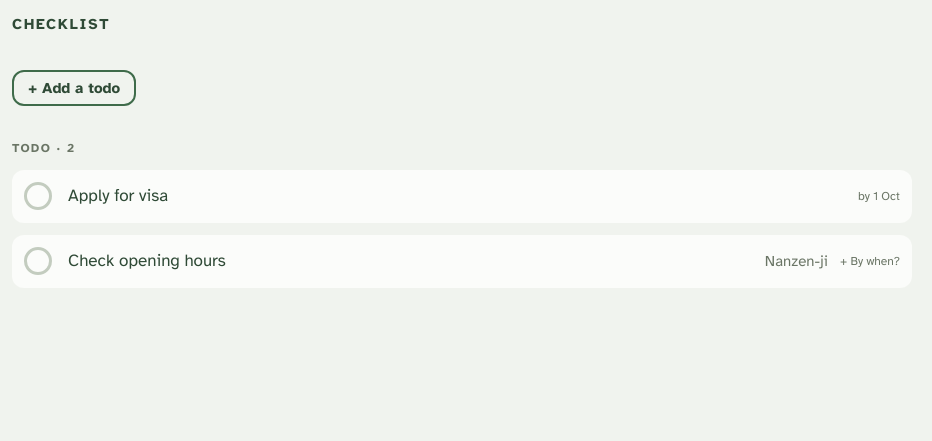
Test case: TripChecklist › saves a new item that has a by-when, without going back to the title first
The image size is (932, 441).
Expected: the text "Apply for visa" is shown, [68,185,168,206]
Click the button "+ Add a todo" at (74, 88), box [12,70,136,106]
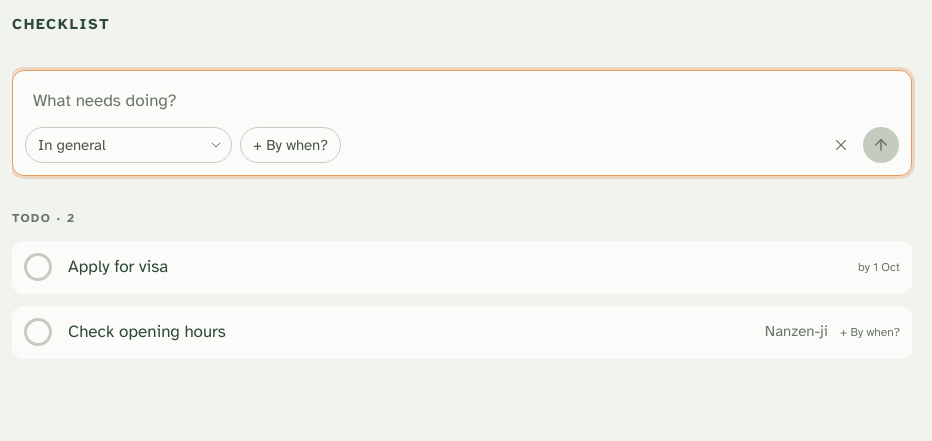
Type "Buy the JR regional pass" into the field labelled "What needs doing?" at (462, 101), box [25,82,899,119]
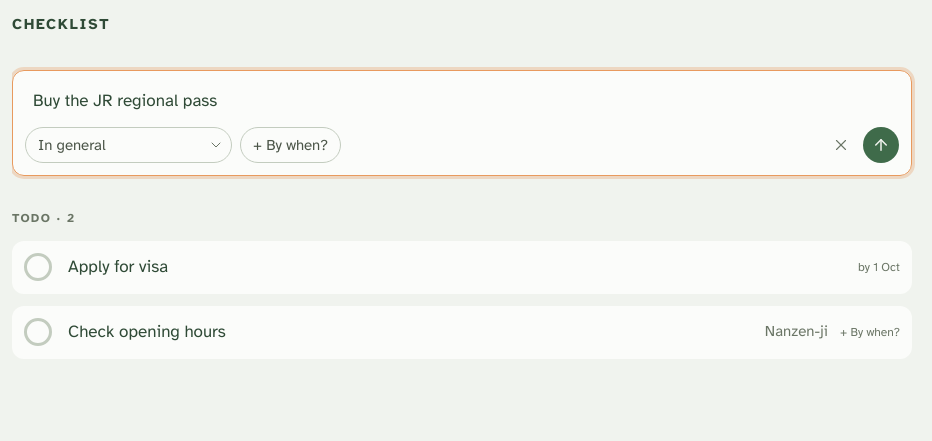
Click the button with aria-label "By when for the new item" at (291, 145), box [240,127,341,163]
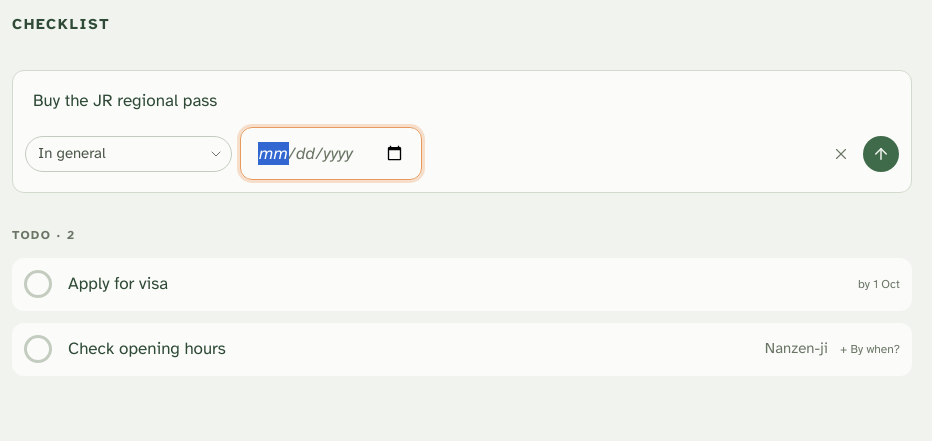
Type "2026-09-20" into the date field named "By when for the new item" at (331, 154), box [257,142,405,165]
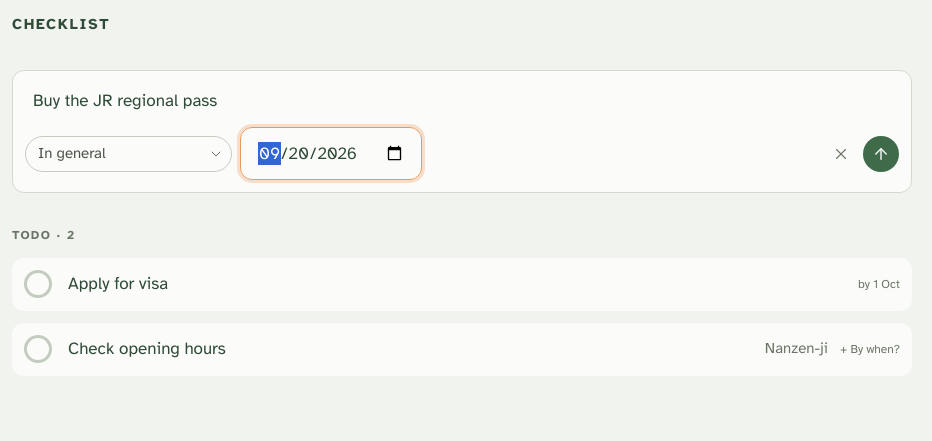
Press Enter
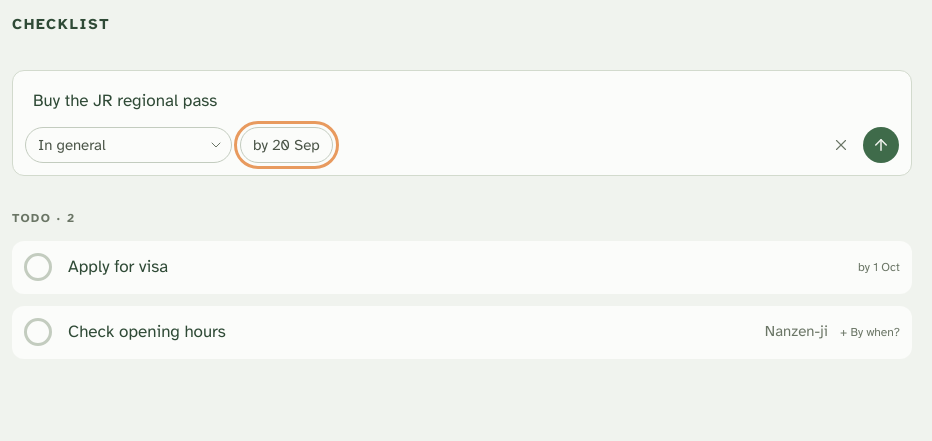
Result: the button with aria-label "By when for the new item" reads "by 20 Sep" at [240,127,333,163]
Click the button named "Add this todo" at (881, 145), box [863,127,899,163]
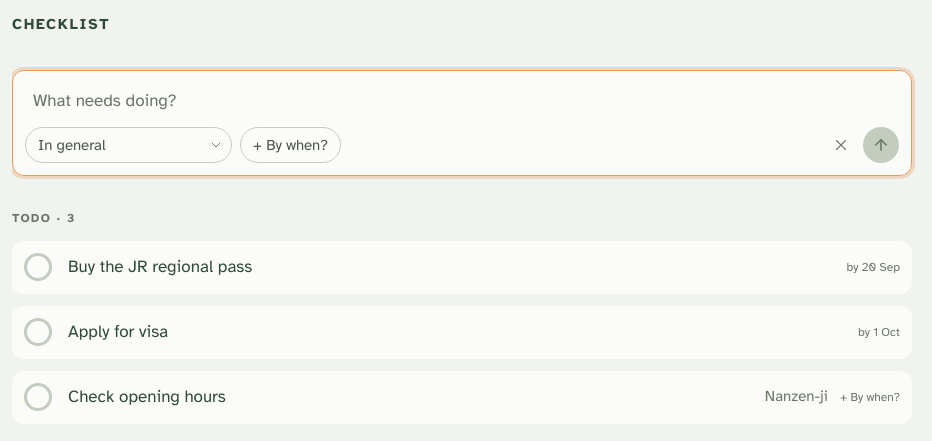
Result: the text "Buy the JR regional pass" is shown at [68,256,252,277]
